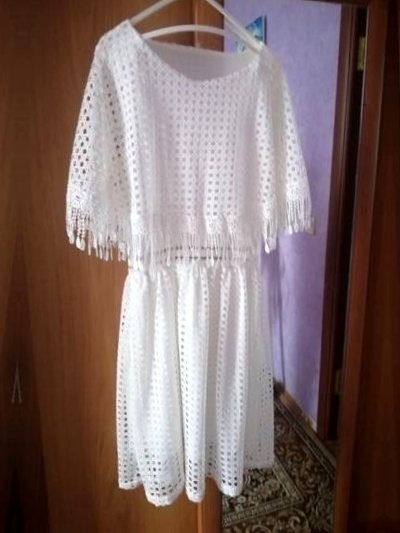Dress: (62, 1, 315, 513)
